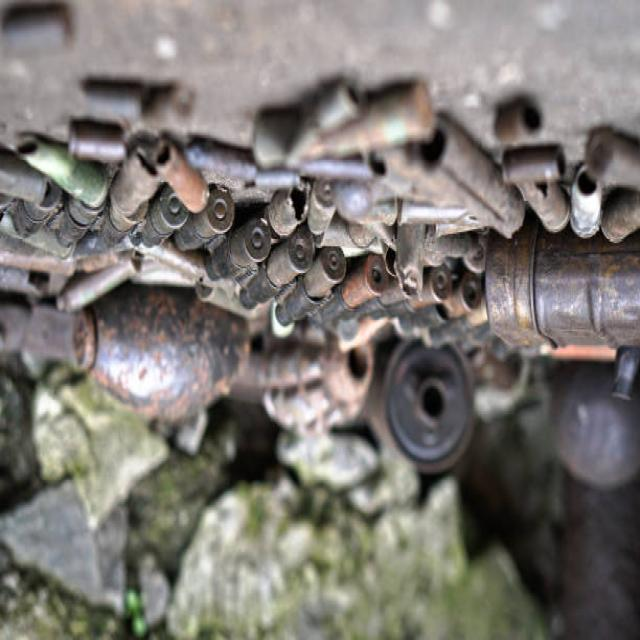grenade: (257, 329, 379, 446)
